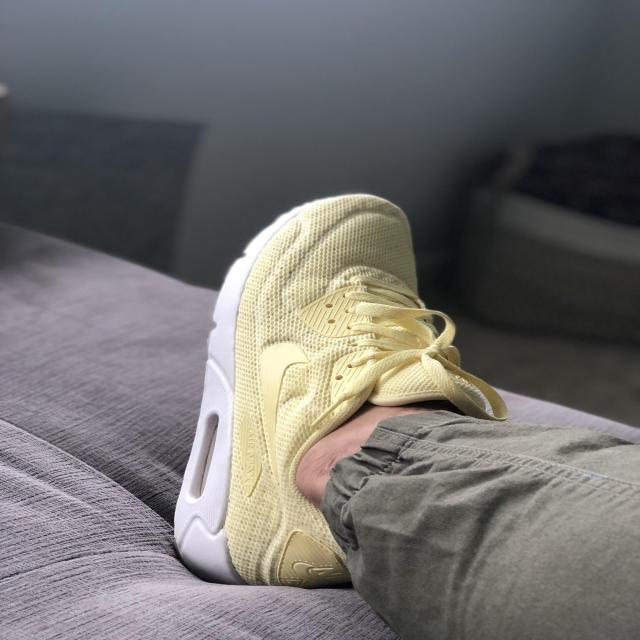shoe: (144, 181, 518, 595)
